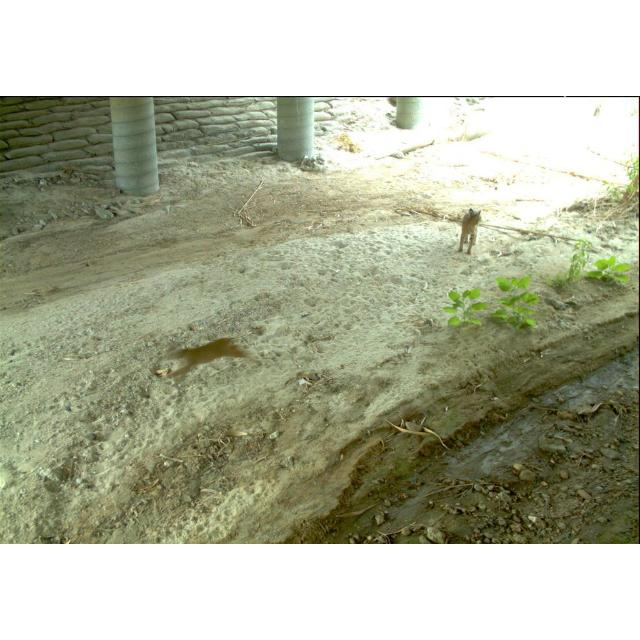animals: (154, 334, 253, 380), (454, 206, 488, 256)
